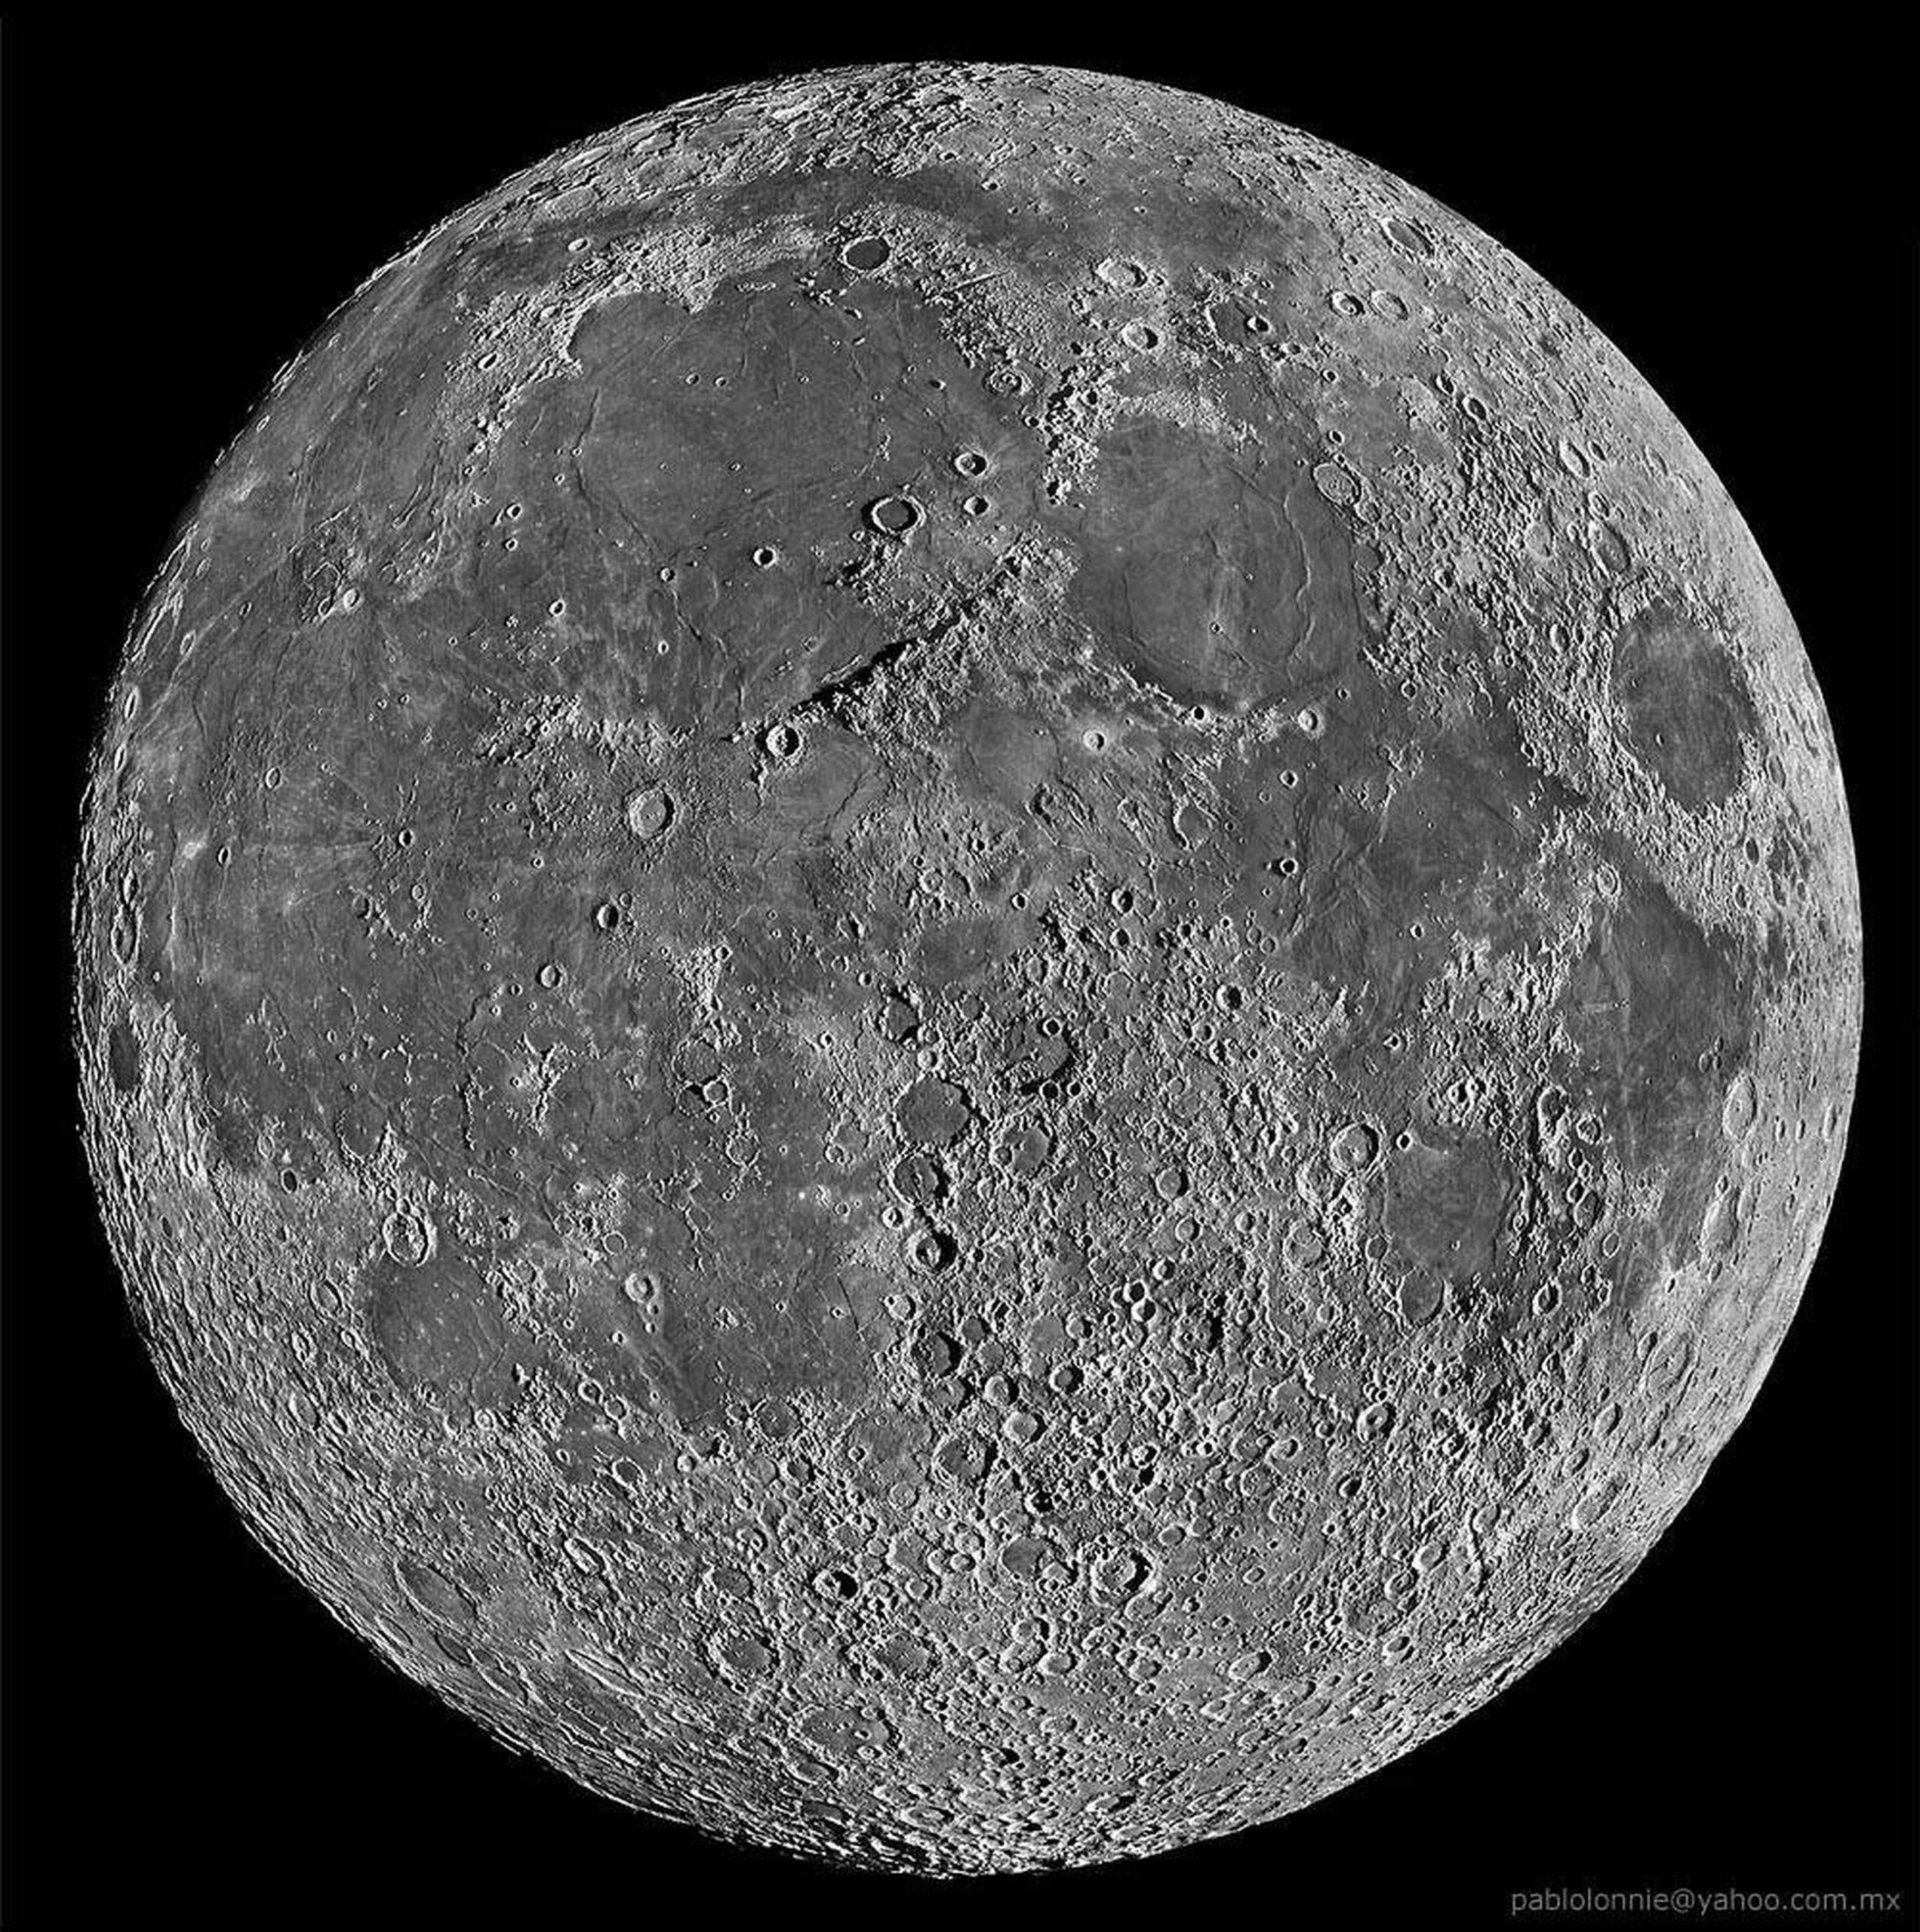crater: (1581, 566, 1774, 854), (385, 1519, 510, 1640), (876, 1062, 1002, 1158), (784, 1540, 893, 1621), (840, 476, 935, 563), (371, 777, 447, 884), (821, 214, 905, 299), (615, 775, 703, 856), (1319, 1099, 1391, 1197), (1080, 243, 1167, 318), (1639, 1311, 1700, 1415), (1305, 452, 1380, 534), (556, 881, 644, 948), (1254, 844, 1336, 907), (369, 1202, 443, 1273), (1705, 1069, 1756, 1162), (243, 752, 306, 826), (1387, 895, 1440, 970), (608, 1259, 668, 1322), (533, 575, 601, 629), (717, 531, 786, 584), (1231, 302, 1291, 360), (1322, 271, 1371, 336), (299, 1264, 353, 1317), (1811, 1072, 1846, 1153), (269, 1157, 318, 1202), (491, 487, 543, 527), (672, 357, 703, 401)
